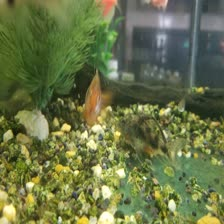Kiros: (113, 109, 181, 160)
Transparente: (77, 65, 113, 130)
